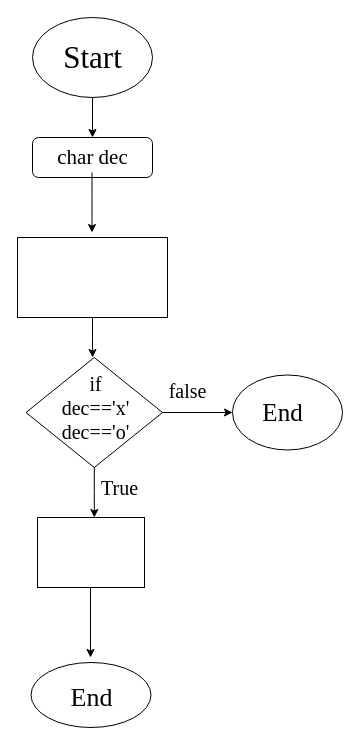
Image size: 360x745. Some labels were removed from this diagram. Here are the shapes that lost their labels. From the top down, the centre of each, then its label:
the point at 92,277: Input - > choose 'X' or 'O'
the point at 90,552: x='X' o='O'
